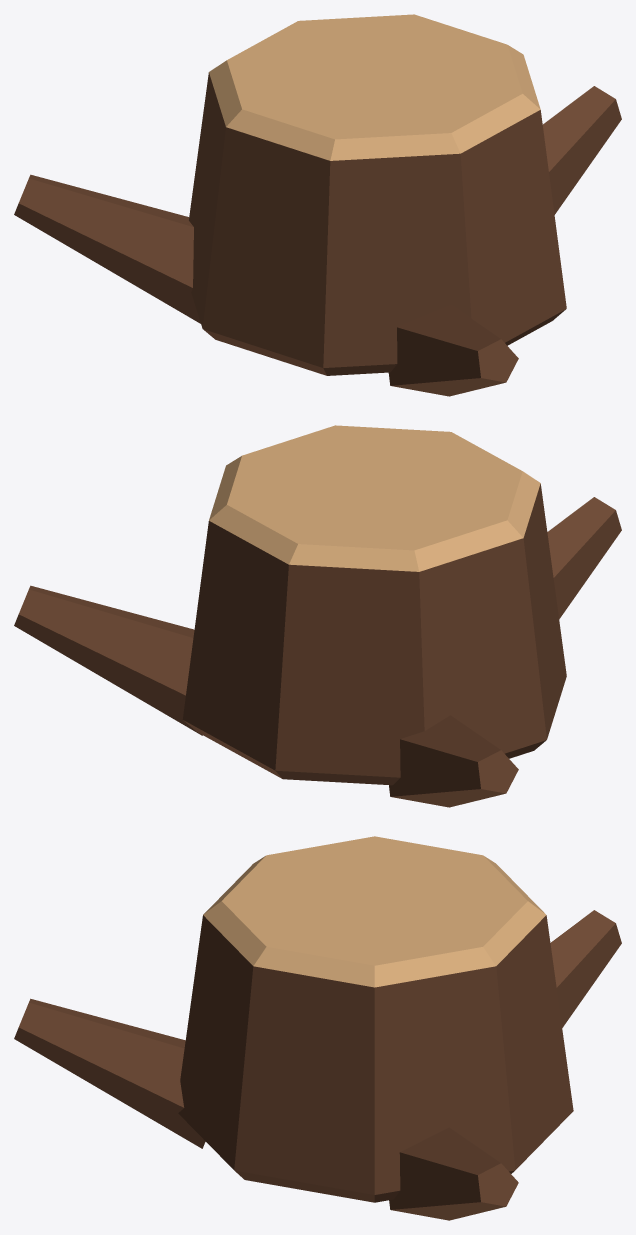
File: Tree_Stump.fbx
3 views of the same model, one above another, from view 1: azimuth 30°, elevation 25°; view 2: azimuth 150°, elevation 25°; view 3: azimuth 270°, elevation 25° (orthographic).
Visible parts, largest first — view 1: Tree_Stump; view 2: Tree_Stump; view 3: Tree_Stump.
Part boxes in pixels (box(x1,y1,x2,y2)): Tree_Stump: box(14, 14, 621, 396); Tree_Stump: box(14, 425, 621, 807); Tree_Stump: box(14, 836, 621, 1220).
Size of the model in its own units: 0.8232 by 0.3626 by 0.7875.
